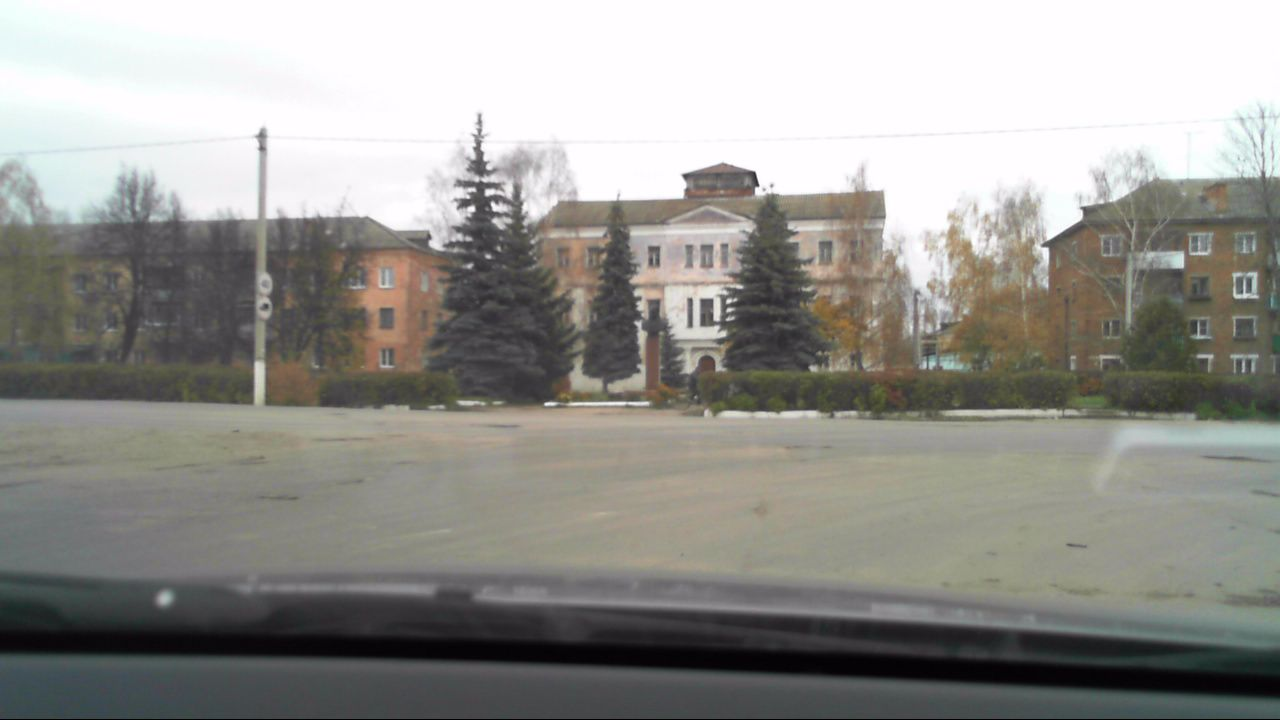speed_warning_40: (258, 273, 276, 295)
